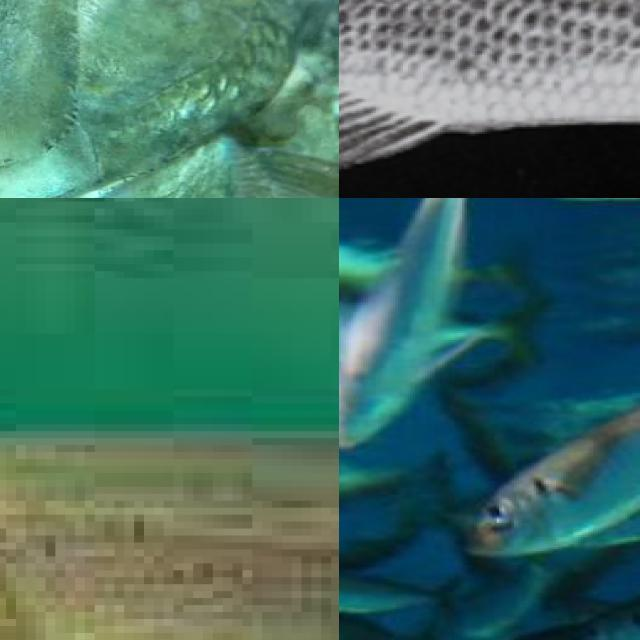fish: (0, 271, 339, 640), (0, 0, 339, 198), (339, 0, 640, 192)
